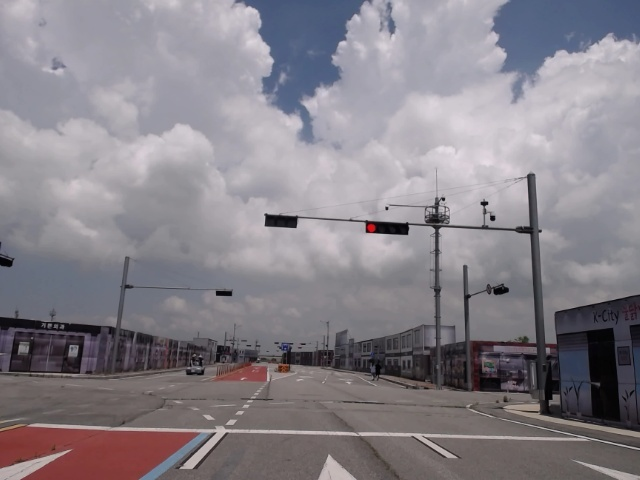red_4: (366, 223, 408, 235)
